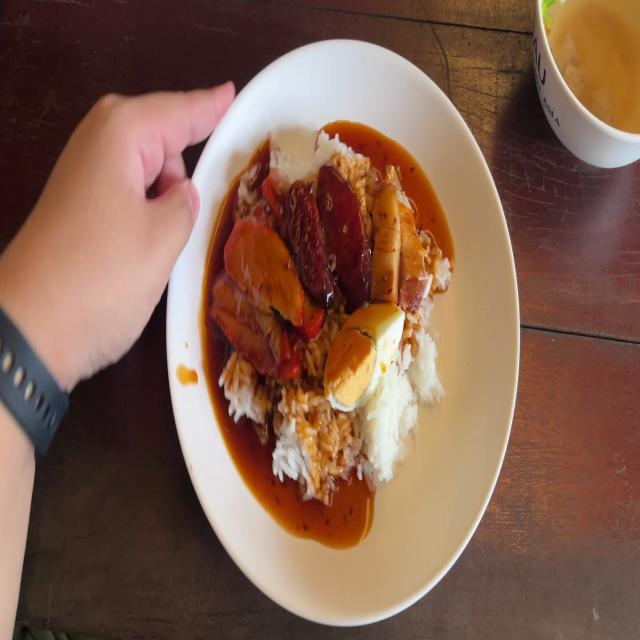red_pork_and_crispy_pork: (328, 306, 401, 406)
stir_fried_basil: (289, 170, 369, 310)
